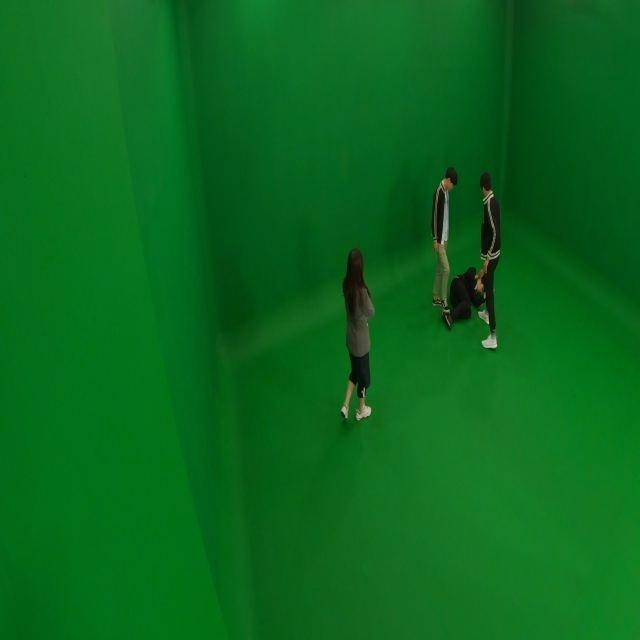fight: (426, 167, 503, 352)
non-fight: (336, 249, 381, 422)
